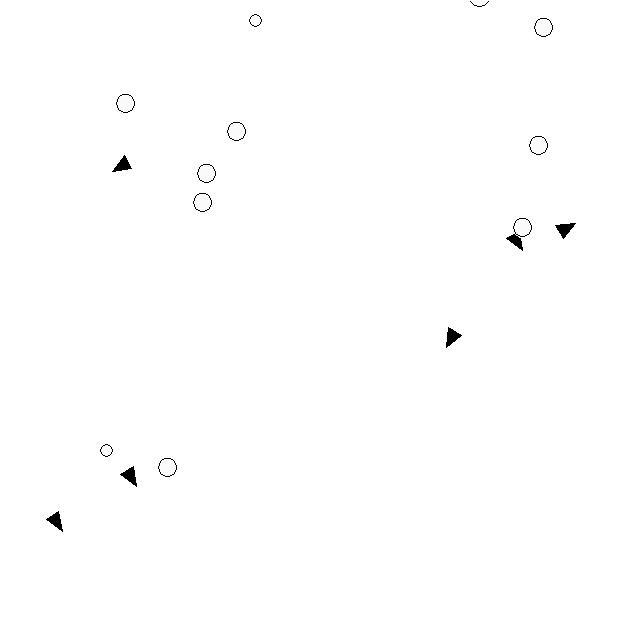Kolodech: (195, 162, 218, 185), (115, 91, 136, 115), (226, 120, 247, 143), (192, 190, 213, 213), (533, 16, 554, 38), (528, 134, 549, 156), (158, 456, 178, 478), (513, 217, 533, 238), (248, 12, 263, 29), (99, 443, 114, 458)
Otmetka: (119, 464, 139, 489), (45, 509, 65, 534), (444, 325, 463, 351), (554, 220, 577, 240), (505, 230, 525, 253), (111, 154, 133, 173)
